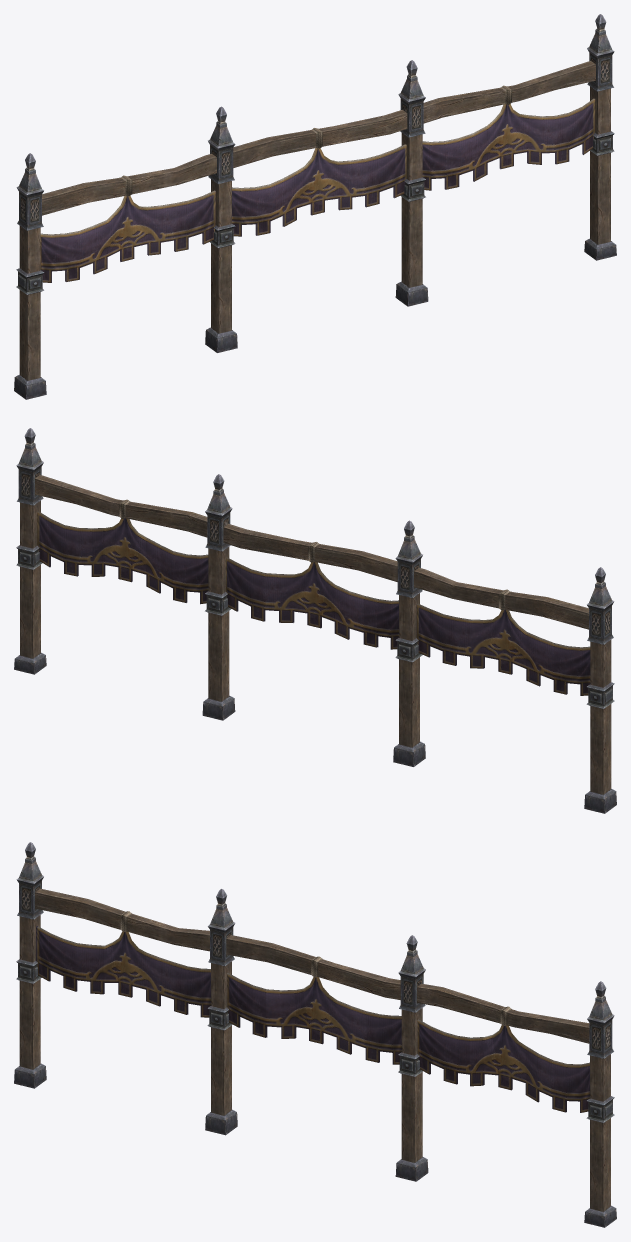
The model's file is bg_lut_lucastle_arenafence02_sm_bjh.FBX.
3 views of the same model, one above another, from view 1: azimuth 30°, elevation 25°; view 2: azimuth 150°, elevation 25°; view 3: azimuth 330°, elevation 25° (orthographic).
Parts seen in each view (by area): view 1: bg_lut_lucastle_arenafence02_sm_bjh; view 2: bg_lut_lucastle_arenafence02_sm_bjh; view 3: bg_lut_lucastle_arenafence02_sm_bjh.
Boxes of the visible parts, left/top/right/bottom form: bg_lut_lucastle_arenafence02_sm_bjh: left=14, top=14, right=616, bottom=399; bg_lut_lucastle_arenafence02_sm_bjh: left=14, top=428, right=616, bottom=813; bg_lut_lucastle_arenafence02_sm_bjh: left=14, top=842, right=616, bottom=1227.
Size of the model in its own units: 423 by 164 by 15.04.
